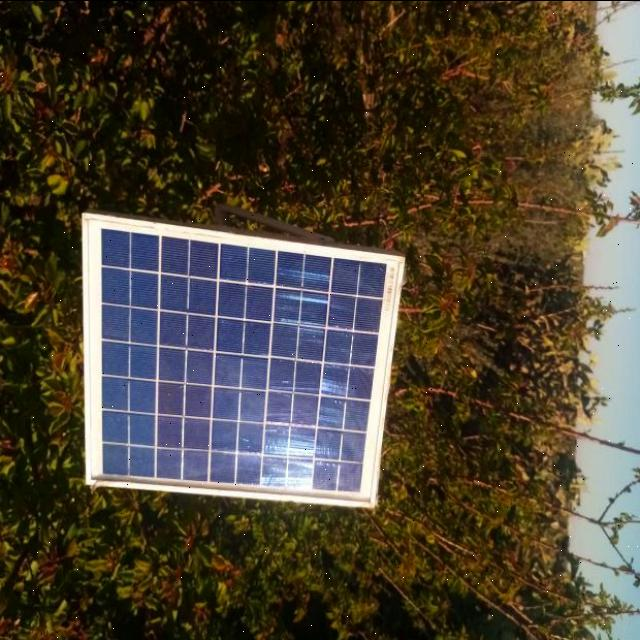Normal Solar Panel: (84, 215, 404, 507)
